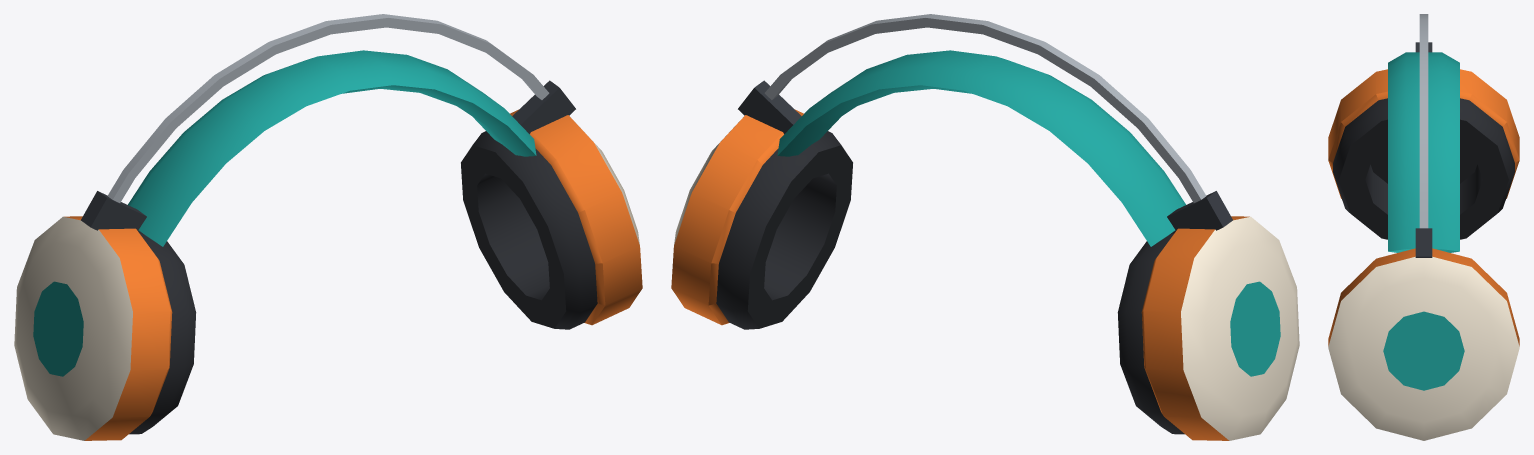
File: Auriculares2.fbx
3 views of the same model, side by side, from view 1: azimuth 30°, elevation 25°; view 2: azimuth 150°, elevation 25°; view 3: azimuth 270°, elevation 25° (orthographic). The views are drawn at different scales.
Parts seen in each view (by area): view 1: Auriculares2; view 2: Auriculares2; view 3: Auriculares2.
Boxes of the visible parts, x1=… form: Auriculares2: x1=14, y1=14, x2=642, y2=440; Auriculares2: x1=671, y1=14, x2=1299, y2=440; Auriculares2: x1=1328, y1=14, x2=1519, y2=440.
Size of the model in its own units: 2.29 by 1.37 by 0.8.
1 material, 1 textured.
